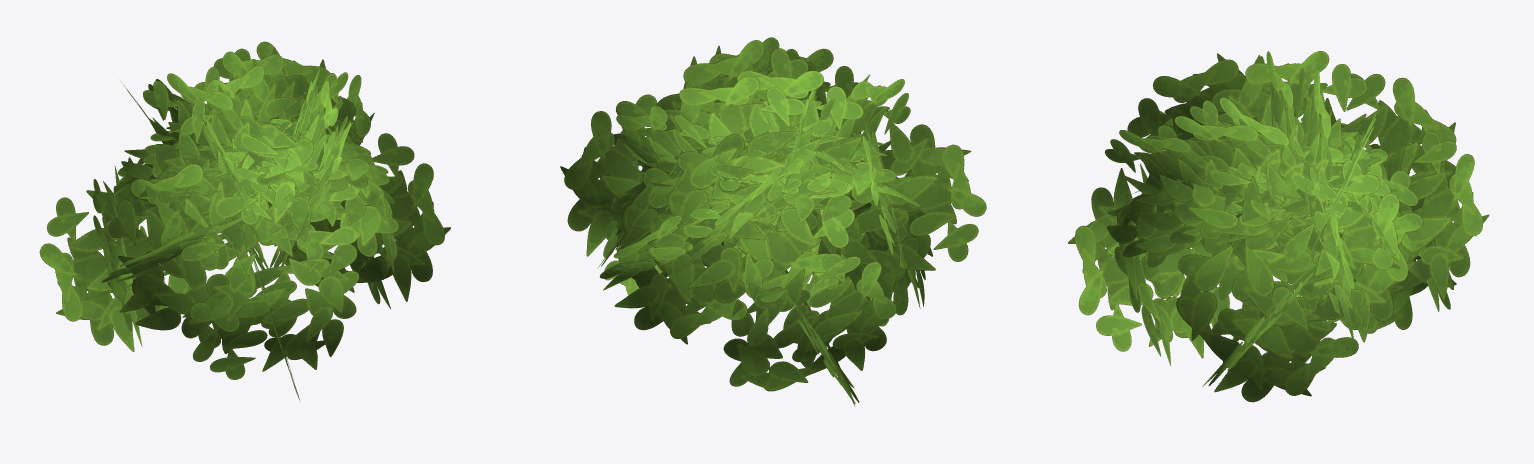
Rendered from SM_bush.fbx.
3 renders of one model, left to right at view 1: azimuth 30°, elevation 25°; view 2: azimuth 150°, elevation 25°; view 3: azimuth 270°, elevation 25°, orthographic. The views are drawn at different scales.
Visible parts, largest first — view 1: bush_mesh; view 2: bush_mesh; view 3: bush_mesh.
Boxes of the visible parts, left/top/right/bottom form: bush_mesh: left=39, top=41, right=450, bottom=401; bush_mesh: left=560, top=37, right=986, bottom=405; bush_mesh: left=1068, top=51, right=1489, bottom=402.
Bounding box in the file's own units: 1185 × 934 × 1144.
